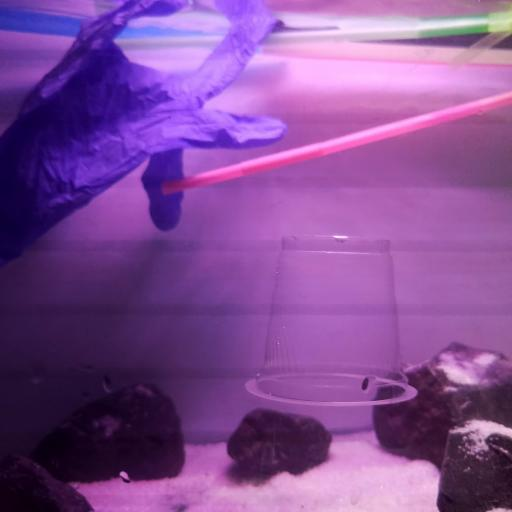glove: (1, 2, 287, 260)
plastic_cup: (244, 230, 417, 409)
plastic_straw: (159, 89, 512, 197), (112, 16, 512, 49), (2, 2, 204, 40), (442, 32, 512, 74)
